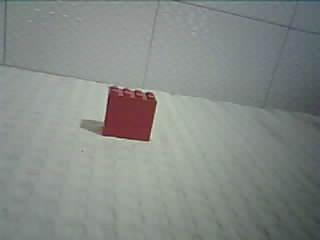lego: (100, 84, 159, 142)
